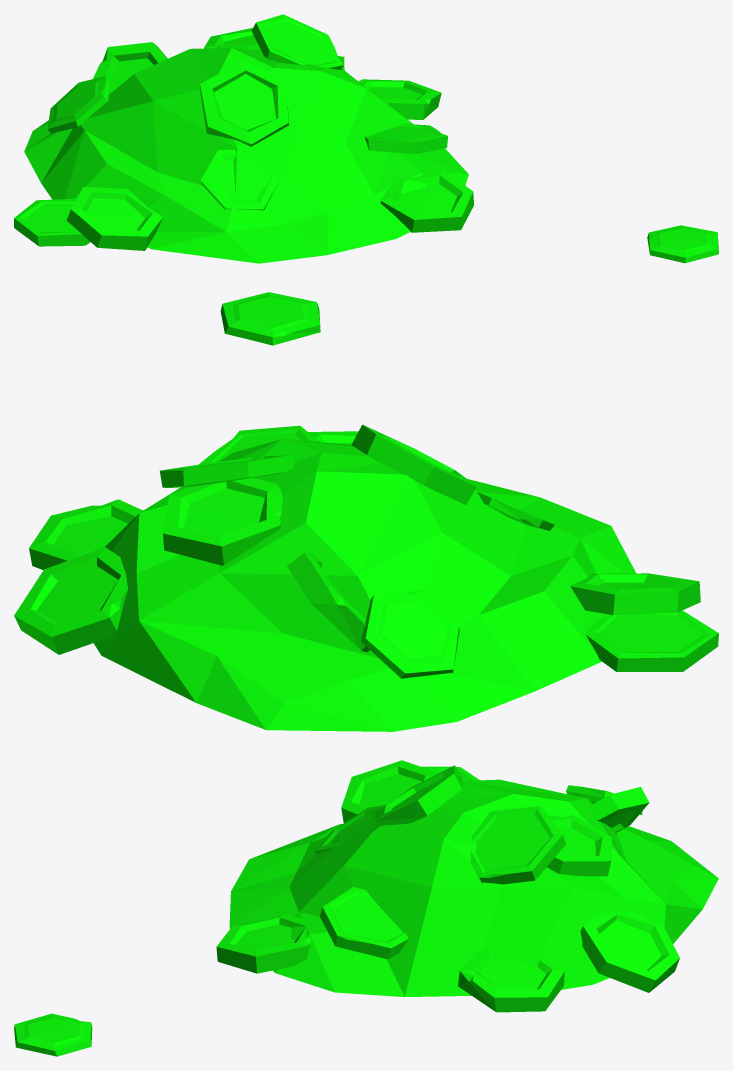
File: SM_Coins_Pile_Small_Fantasy.fbx
The picture shows the model from 3 angles, top to bottom: view 1: azimuth 30°, elevation 25°; view 2: azimuth 150°, elevation 25°; view 3: azimuth 270°, elevation 25°; orthographic projection. The views are drawn at different scales.
Visible parts, largest first — view 1: coins-pile-small-fantasy; view 2: coins-pile-small-fantasy; view 3: coins-pile-small-fantasy.
Part boxes in pixels (x1,y1,x2,y2): coins-pile-small-fantasy: (14, 14, 718, 263); coins-pile-small-fantasy: (14, 292, 718, 731); coins-pile-small-fantasy: (14, 760, 718, 1056).
Size of the model in its own units: 0.292 by 0.0633 by 0.3122.
